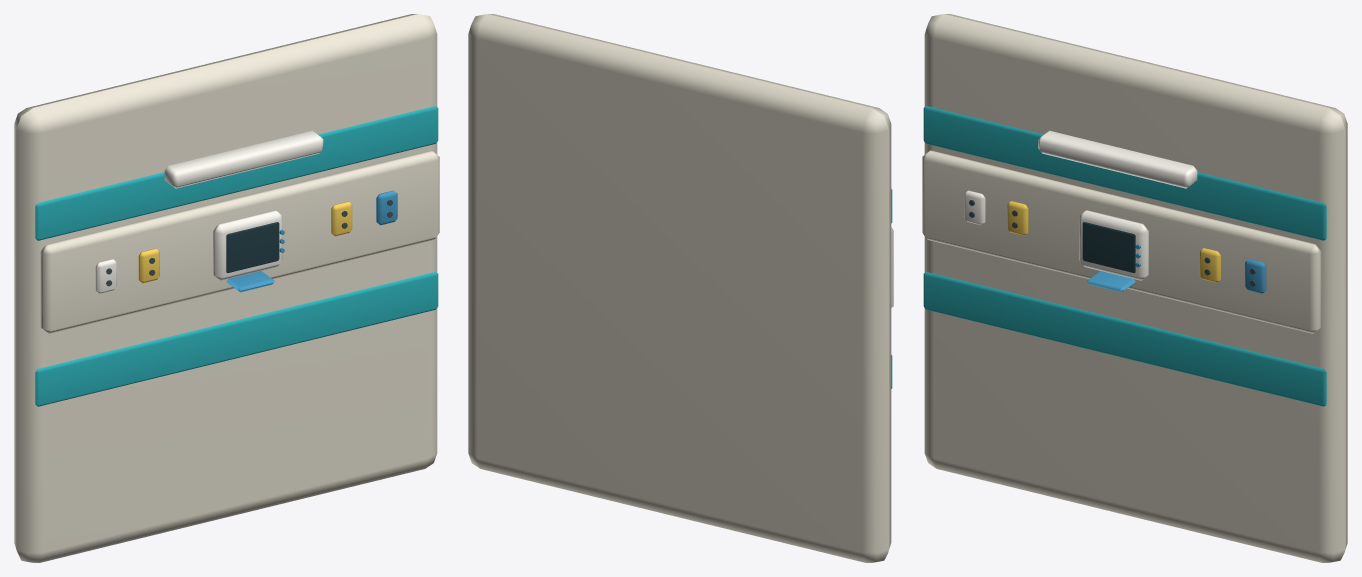
The model's file is RecoveryHeadwall_standard.glb.
The picture shows the model from 3 angles, left to right: view 1: azimuth 30°, elevation 25°; view 2: azimuth 150°, elevation 25°; view 3: azimuth 330°, elevation 25°; orthographic projection.
Parts seen in each view (by area): view 1: Static_ivory, Static_teal, Static_white, Static_screen, Static_blue, Static_yellow; view 2: Static_ivory; view 3: Static_ivory, Static_teal, Static_white, Static_screen, Static_blue, Static_yellow.
Part boxes in pixels (x1=…): Static_ivory: x1=14, y1=14, x2=439, y2=562; Static_teal: x1=35, y1=106, x2=438, y2=406; Static_white: x1=95, y1=130, x2=323, y2=293; Static_screen: x1=226, y1=222, x2=279, y2=272; Static_blue: x1=226, y1=190, x2=397, y2=292; Static_yellow: x1=138, y1=201, x2=352, y2=283; Static_ivory: x1=468, y1=14, x2=893, y2=562; Static_ivory: x1=922, y1=14, x2=1347, y2=562; Static_teal: x1=923, y1=106, x2=1326, y2=406; Static_white: x1=964, y1=130, x2=1197, y2=280; Static_screen: x1=1082, y1=222, x2=1135, y2=272; Static_blue: x1=1087, y1=244, x2=1266, y2=293; Static_yellow: x1=1007, y1=201, x2=1220, y2=282.
Bounding box in the file's own units: 1.85 × 1.92 × 0.32.
